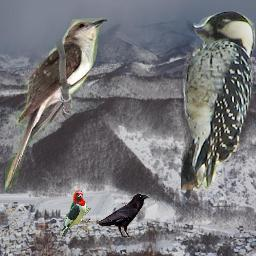Crow: (95, 192, 151, 237)
Cuckoo: (5, 18, 107, 190)
Woodpecker: (181, 10, 255, 191), (60, 190, 91, 237)
